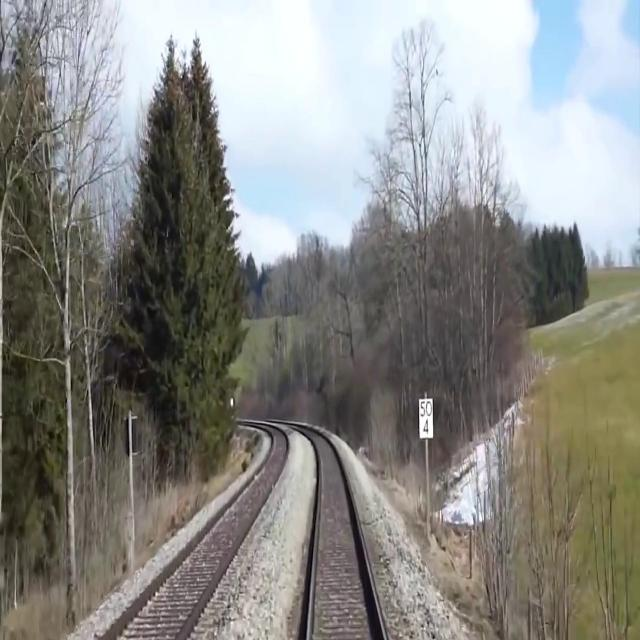rail-track: (115, 431, 286, 639), (311, 434, 382, 639)
